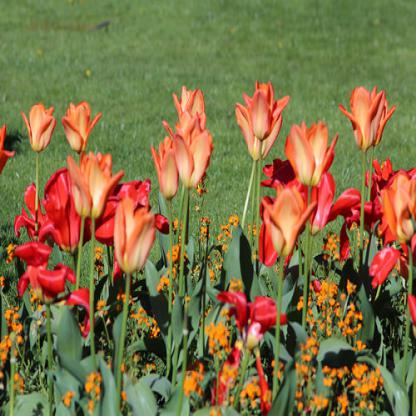TULIP: (22, 58, 406, 349)
